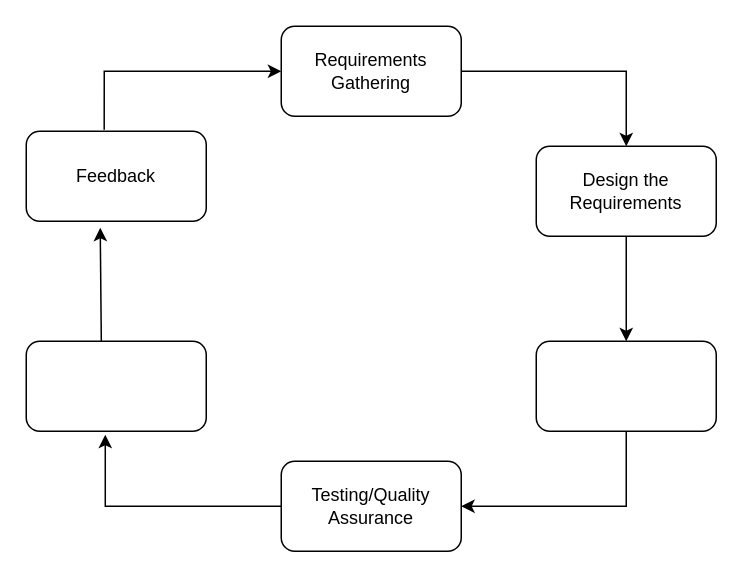
This 743x578 diagram has some shape labels left out. Here are the shapes that lost their labels. From the top down, the centre of each, then its label:
At point 115,385: "Deployment".
At point 625,385: "Construction/Iteration".
